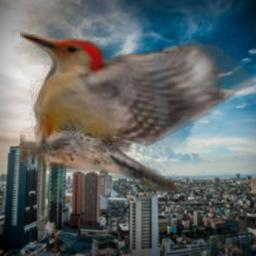Woodpecker: (20, 30, 256, 191)
